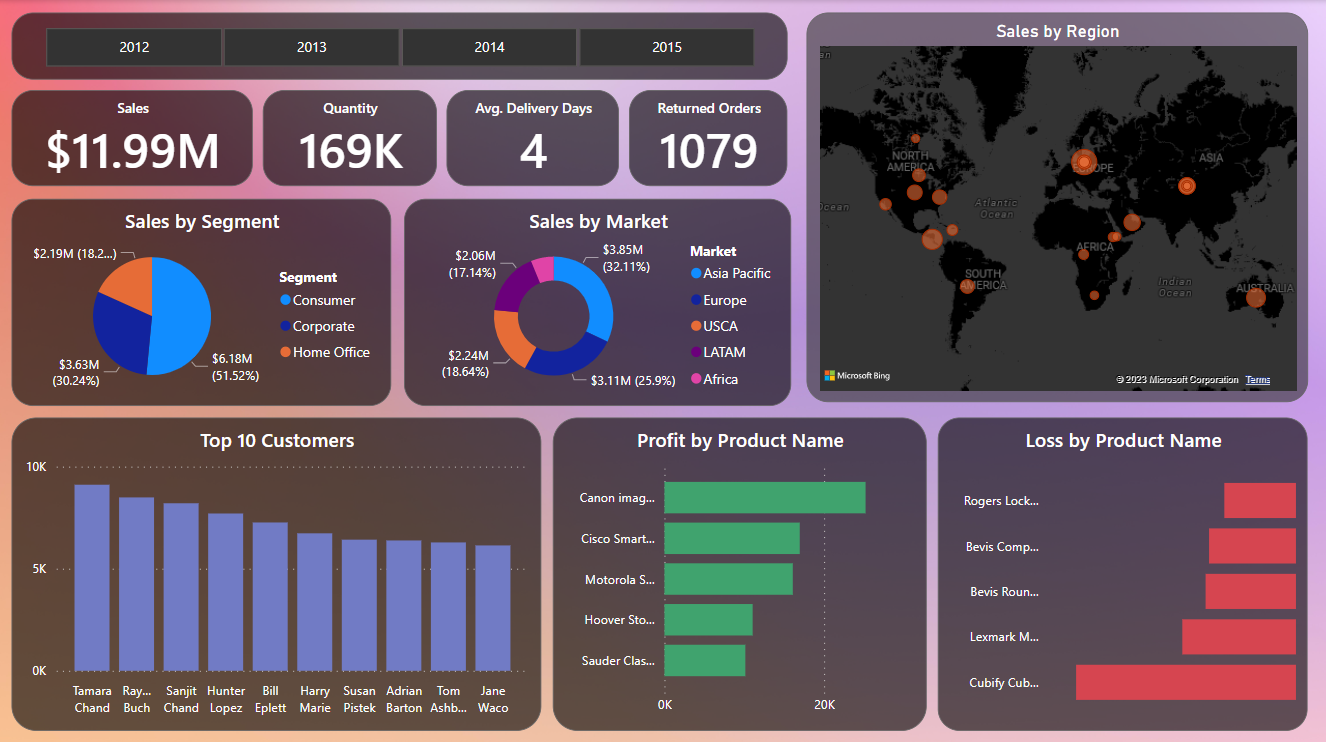

What the dashboard file says about the page in this screenshot:
{"tool":"powerbi","page":{"name":"Page 1","canvas":[1280,720],"ordinal":0},"visuals":[{"type":"card","title":"Sales","fields":{"Values":["Orders.Sales"]},"box":[12.1,86.8,232.8,92.9],"z":0},{"type":"card","title":"Quantity","fields":{"Values":["Orders.Quantity"]},"box":[254.5,86.8,167.6,92.9],"z":1000},{"type":"card","title":"Avg. Delivery Days","fields":{"Values":["Orders.Delivery Days"]},"box":[431.8,86.8,166.4,92.9],"z":2000},{"type":"slicer","fields":{"Values":["Orders.Year"]},"box":[12.1,12.1,748.9,65.1],"z":3000},{"type":"card","title":"Returned Orders","fields":{"Values":["Returns.Return Orders"]},"box":[607.8,86.8,153.2,92.9],"z":4000},{"type":"map","title":"Sales by Region","fields":{"Category":["Orders.Region"],"Size":["Orders.Sales"]},"box":[779.1,12.1,483.6,376.3],"z":5000},{"type":"barChart","title":"Profit by Product Name","fields":{"Y":["Orders.Profit"],"Category":["Orders.Product Name"]},"box":[534.3,402.8,360.6,302.7],"z":6000},{"type":"barChart","title":"Loss by Product Name","fields":{"Y":["Orders.Profit"],"Category":["Orders.Product Name"]},"box":[905.7,402.8,357,302.7],"z":7000},{"type":"pieChart","title":"Sales by Segment","fields":{"Category":["Orders.Segment"],"Y":["Orders.Sales"]},"box":[12.1,192,366.6,200.2],"z":8000},{"type":"donutChart","title":"Sales by Market","fields":{"Category":["Orders.Market"],"Y":["Orders.Sales"]},"box":[390.8,192,373.9,200.2],"z":9000},{"type":"columnChart","title":"Top 10 Customers","fields":{"Y":["Orders.Profit"],"Category":["Orders.Customer Name"]},"box":[12.1,402.8,511.4,302.7],"z":10000}]}

Visuals, with their boxes in screenshot pixels (x1, y1, x2, y2), scaled from the page's 1280x720 canvas onto the 1326x742 screenshot:
"Sales" card: x1=13 y1=89 x2=254 y2=185
"Quantity" card: x1=264 y1=89 x2=437 y2=185
"Avg. Delivery Days" card: x1=447 y1=89 x2=620 y2=185
slicer - Orders.Year: x1=13 y1=12 x2=788 y2=80
"Returned Orders" card: x1=630 y1=89 x2=788 y2=185
"Sales by Region" map: x1=807 y1=12 x2=1308 y2=400
"Profit by Product Name" barChart: x1=554 y1=415 x2=927 y2=727
"Loss by Product Name" barChart: x1=938 y1=415 x2=1308 y2=727
"Sales by Segment" pieChart: x1=13 y1=198 x2=392 y2=404
"Sales by Market" donutChart: x1=405 y1=198 x2=792 y2=404
"Top 10 Customers" columnChart: x1=13 y1=415 x2=542 y2=727
